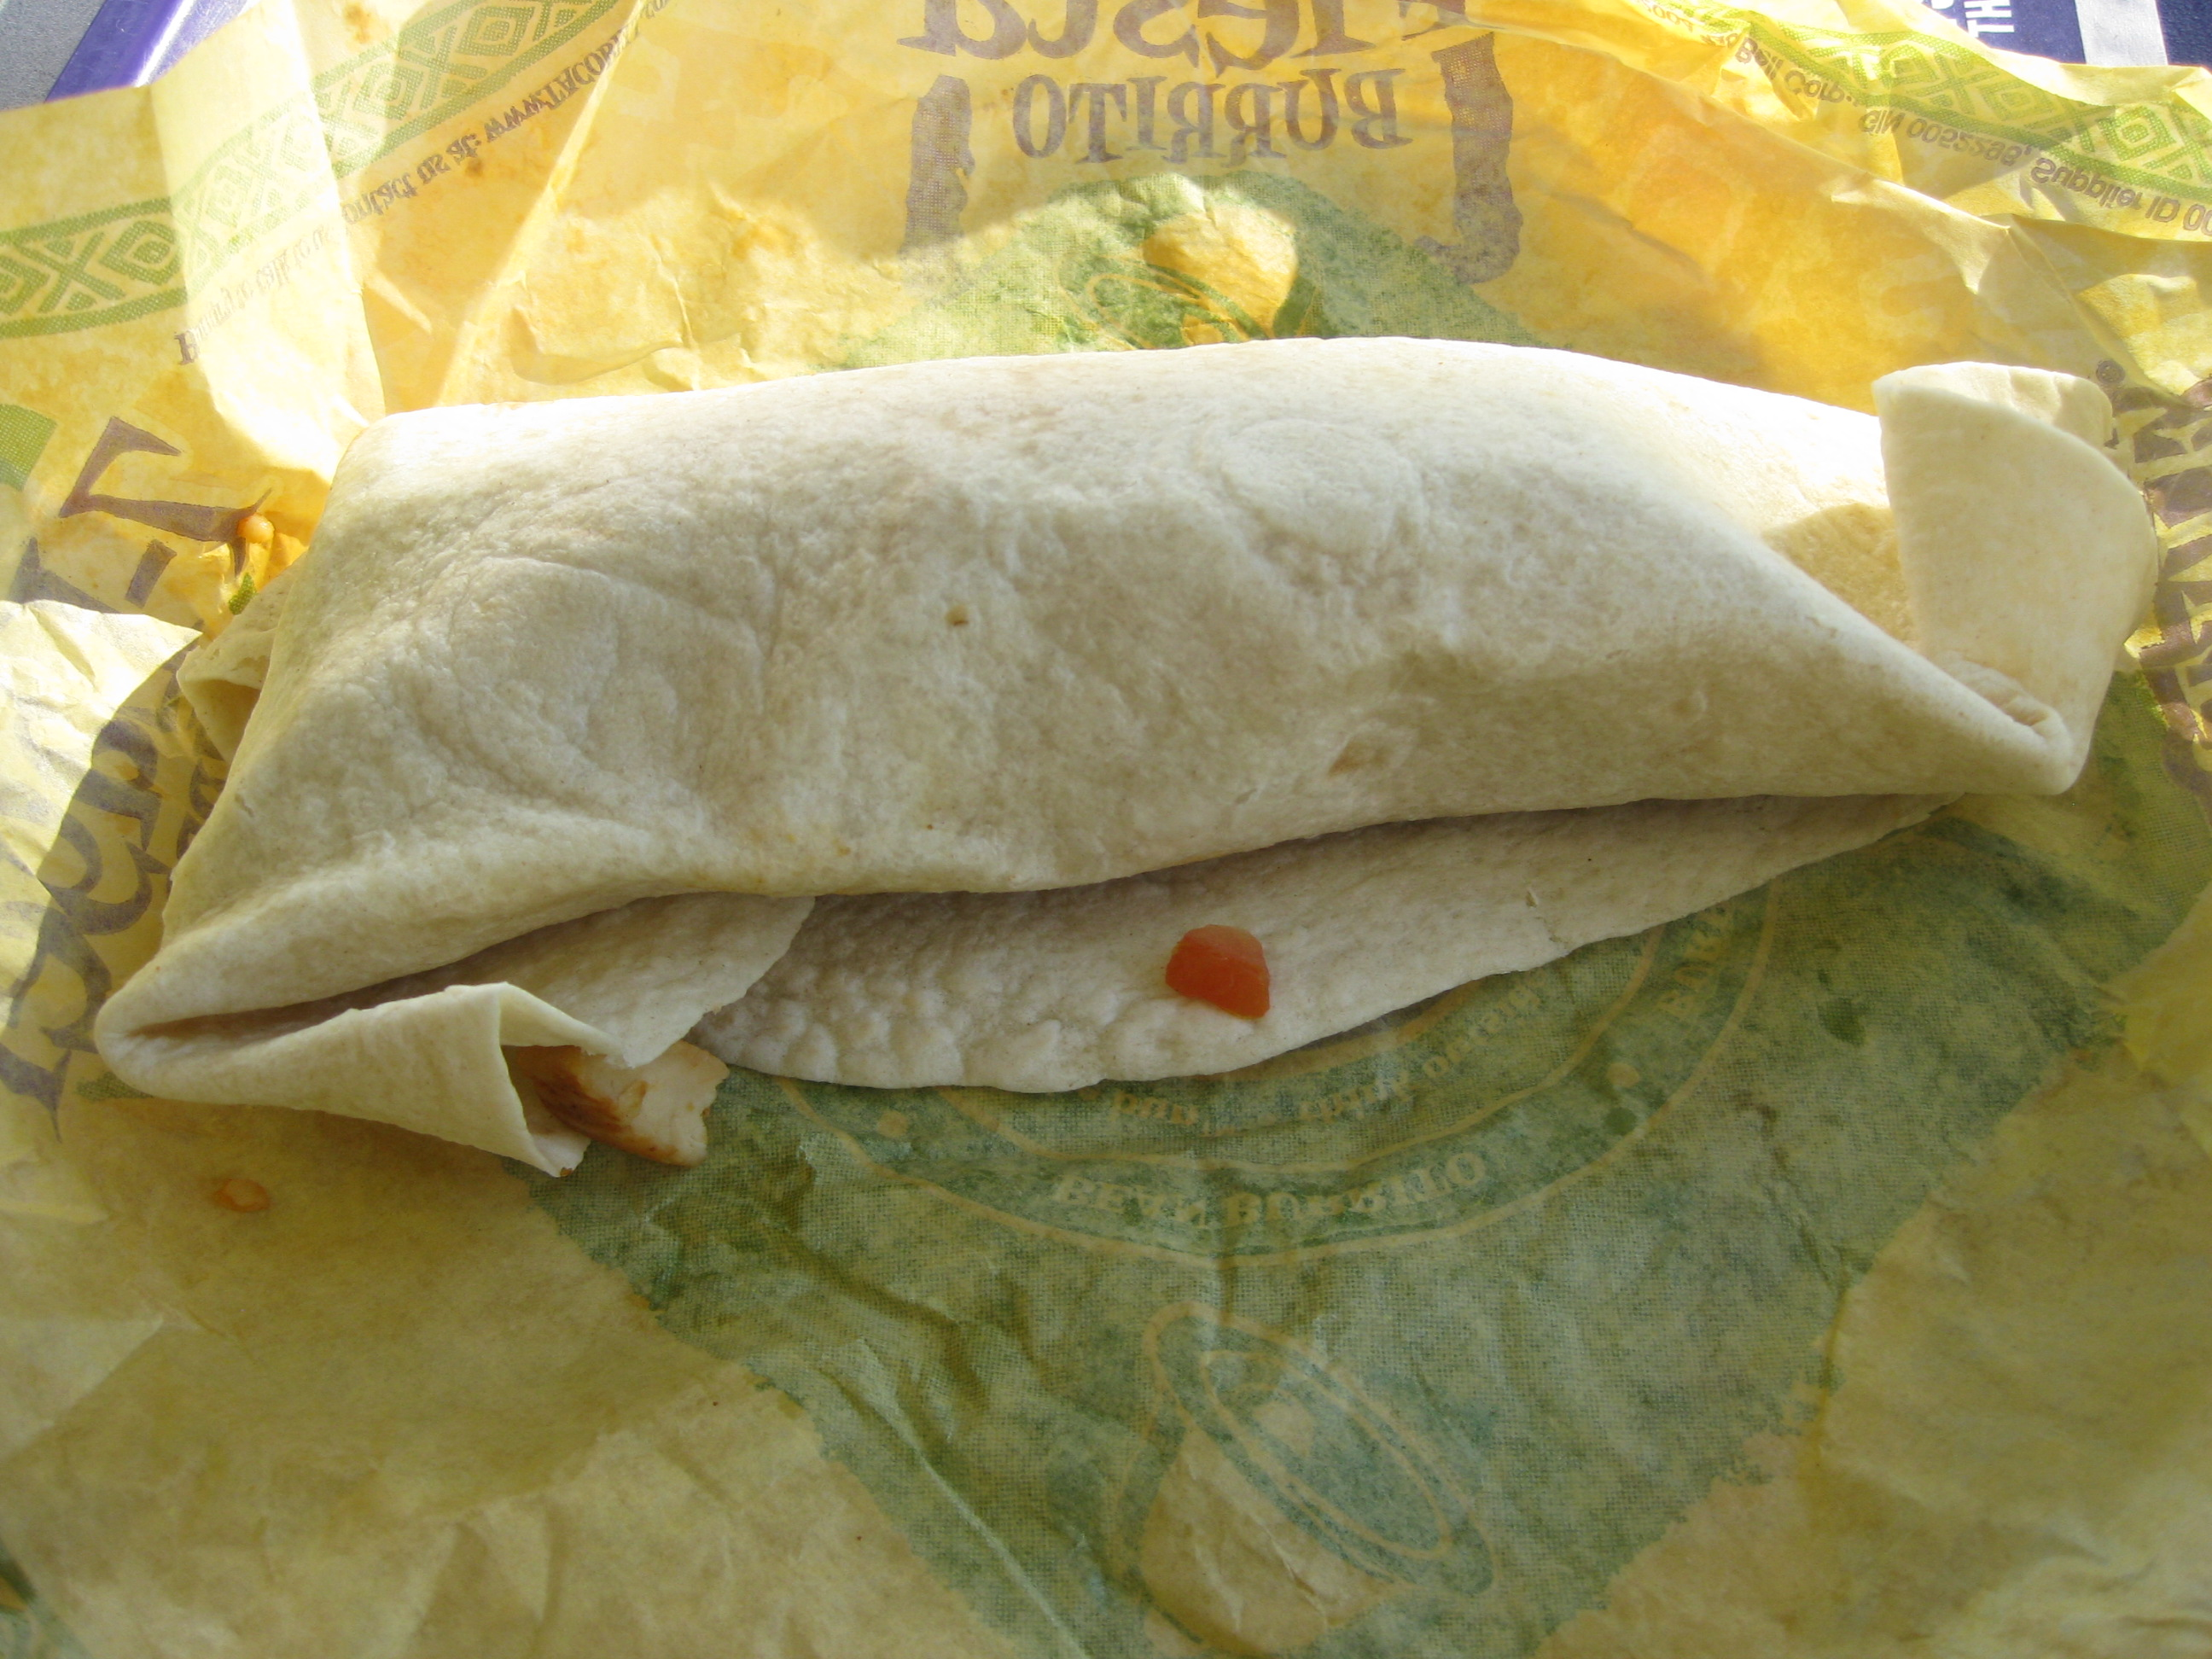burrito: (102, 309, 2152, 1155)
